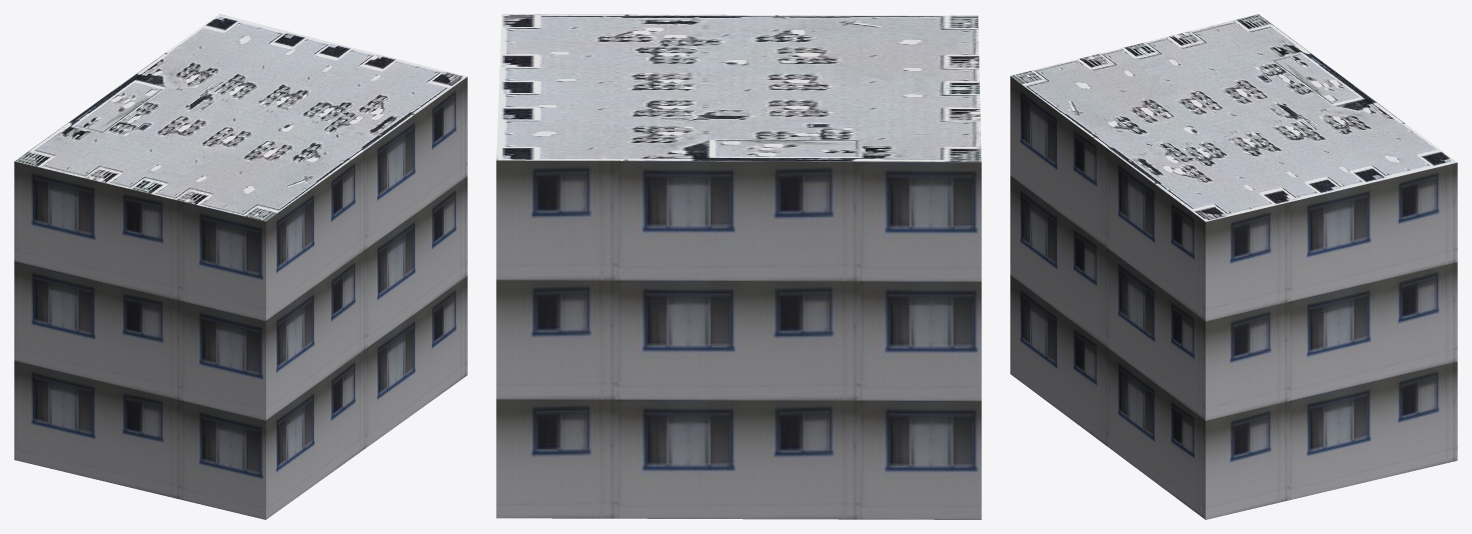
The model's file is ResTex__61.fbx.
3 views of the same model, side by side, from view 1: azimuth 30°, elevation 25°; view 2: azimuth 150°, elevation 25°; view 3: azimuth 270°, elevation 25° (orthographic). The views are drawn at different scales.
Parts seen in each view (by area): view 1: CityEngineMaterial_9_m, CityEngineMaterial_2_m; view 2: CityEngineMaterial_9_m, CityEngineMaterial_2_m; view 3: CityEngineMaterial_9_m, CityEngineMaterial_2_m.
Part boxes in pixels (x1,y1,x2,y2): CityEngineMaterial_9_m: (14, 77, 467, 519); CityEngineMaterial_2_m: (14, 14, 466, 221); CityEngineMaterial_9_m: (496, 160, 981, 519); CityEngineMaterial_2_m: (496, 14, 981, 161); CityEngineMaterial_9_m: (1010, 76, 1457, 519); CityEngineMaterial_2_m: (1011, 14, 1457, 221).
Bounding box in the file's own units: 13.46 × 9 × 12.24.
2 materials, 2 textured.
